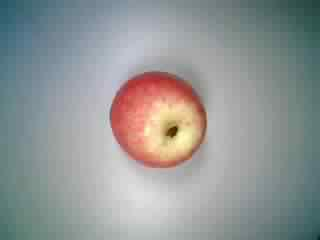apple: (106, 70, 211, 172)
